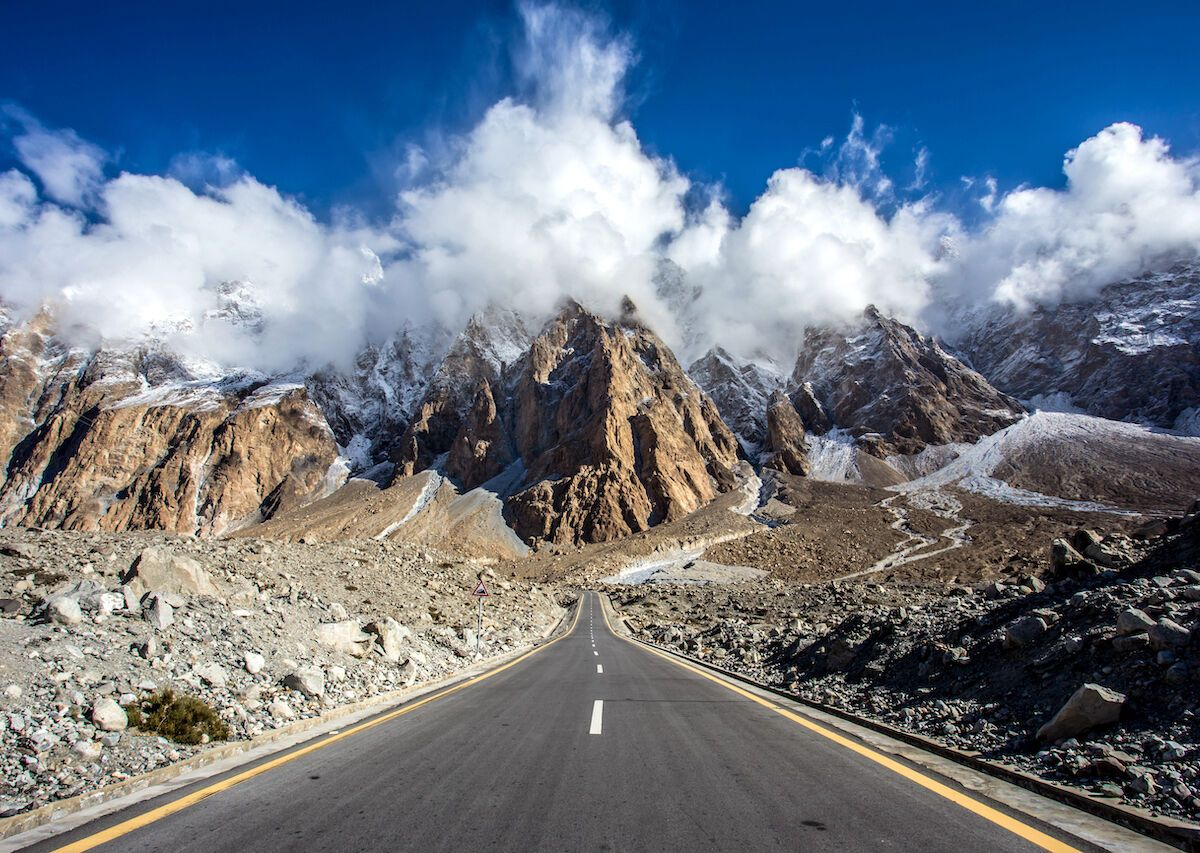straightRoad: (470, 589, 739, 823)
